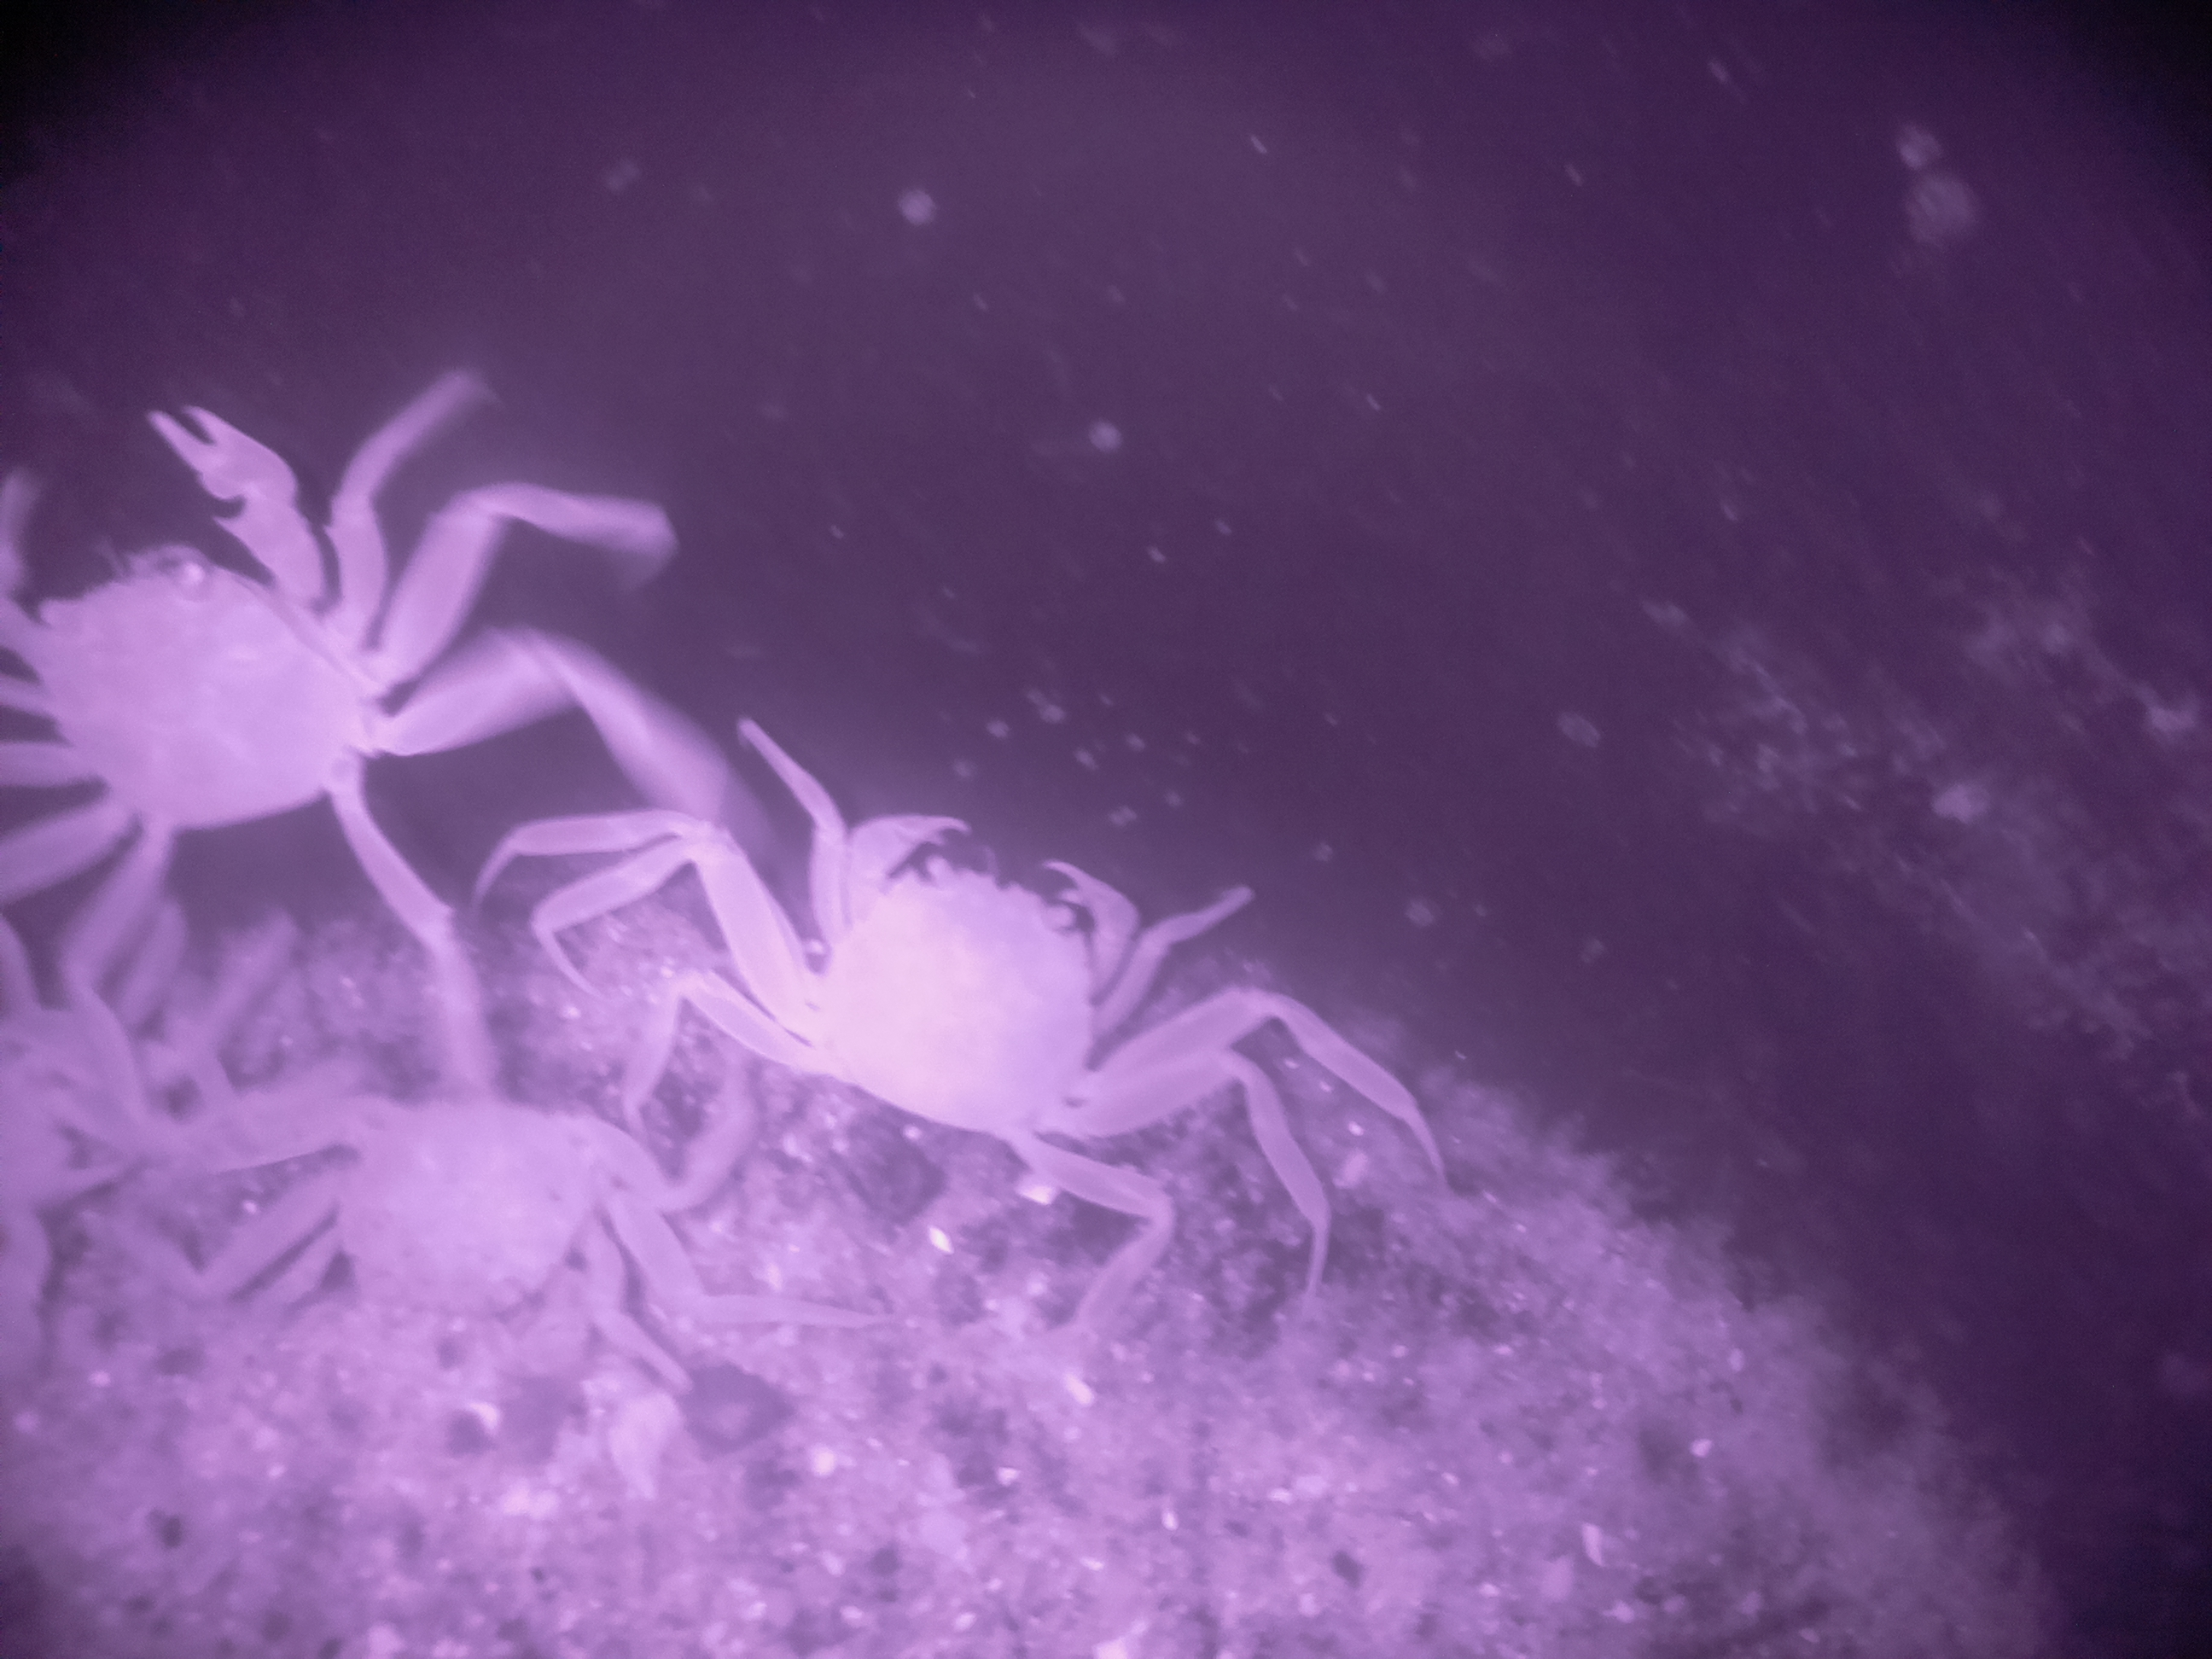Crab: (690, 711, 1235, 1234), (0, 378, 526, 877)
